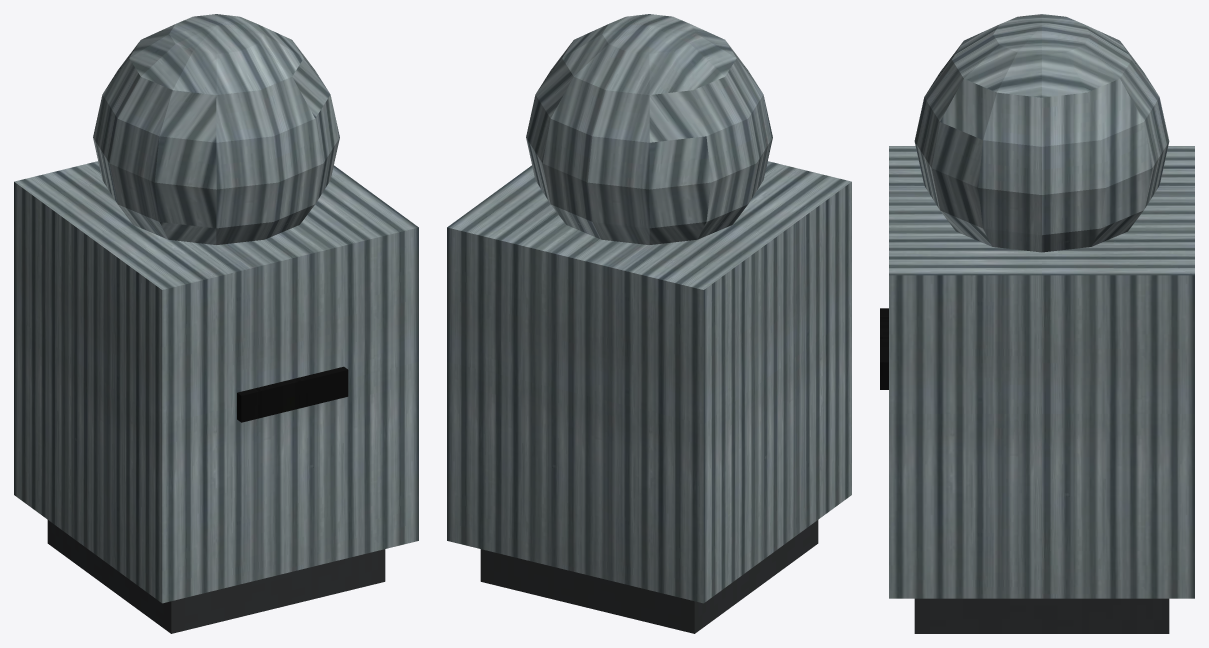
File: guard_robot_01.glb
3 views of the same model, side by side, from view 1: azimuth 30°, elevation 25°; view 2: azimuth 150°, elevation 25°; view 3: azimuth 270°, elevation 25° (orthographic). The views are drawn at different scales.
Visible parts, largest first — view 1: guard_robot_01; view 2: guard_robot_01; view 3: guard_robot_01.
Part boxes in pixels (<box>): guard_robot_01: <box>14,14,418,633</box>; guard_robot_01: <box>447,14,851,633</box>; guard_robot_01: <box>880,14,1194,633</box>.
Bounding box in the file's own units: 1.2 × 2.4 × 1.24.
3 materials, 3 textured.
